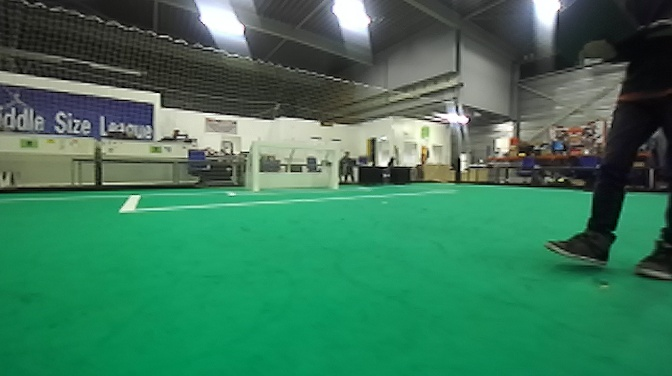goalpost: (244, 140, 261, 192), (326, 143, 340, 190)
human: (551, 1, 670, 290)
